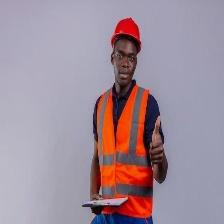Person: (84, 16, 167, 224)
helmet: (111, 16, 142, 54)
vest: (99, 82, 154, 216)
